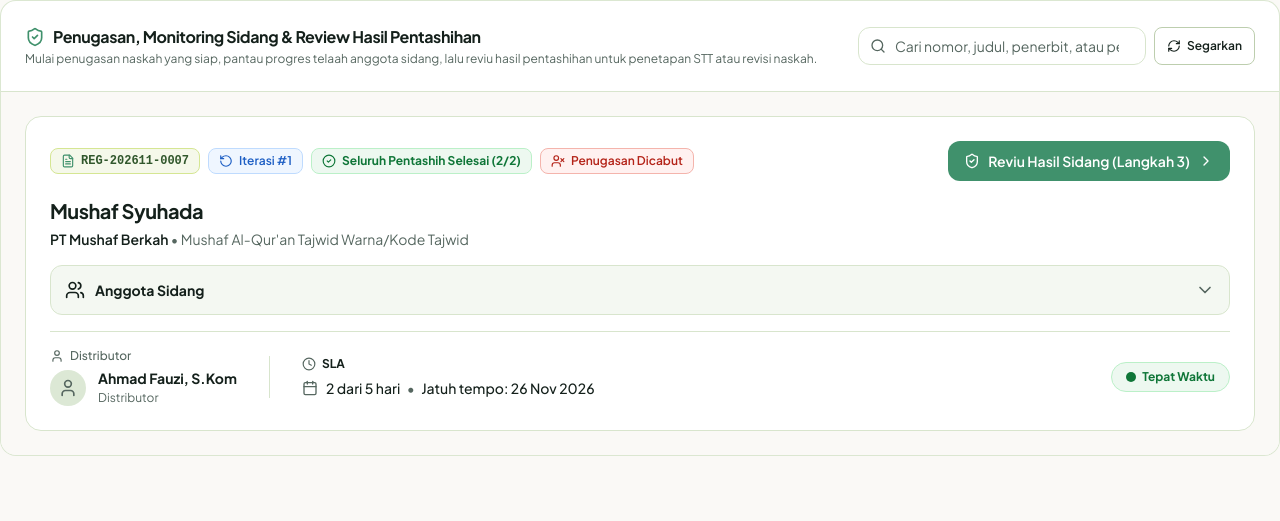
Test: ReviewProgressPanel Component › mengendalikan accordion Anggota Sidang (default tertutup, membuka saat diklik)
Expected: the text "H. Mustopa, M.Si" is not shown
Expected: the text "Alvita Eka Rahmah, S.Ag" is not shown
// Click accordion header to expand
Click the button "Anggota Sidang": x=150, y=290 [65, 280, 1215, 300]
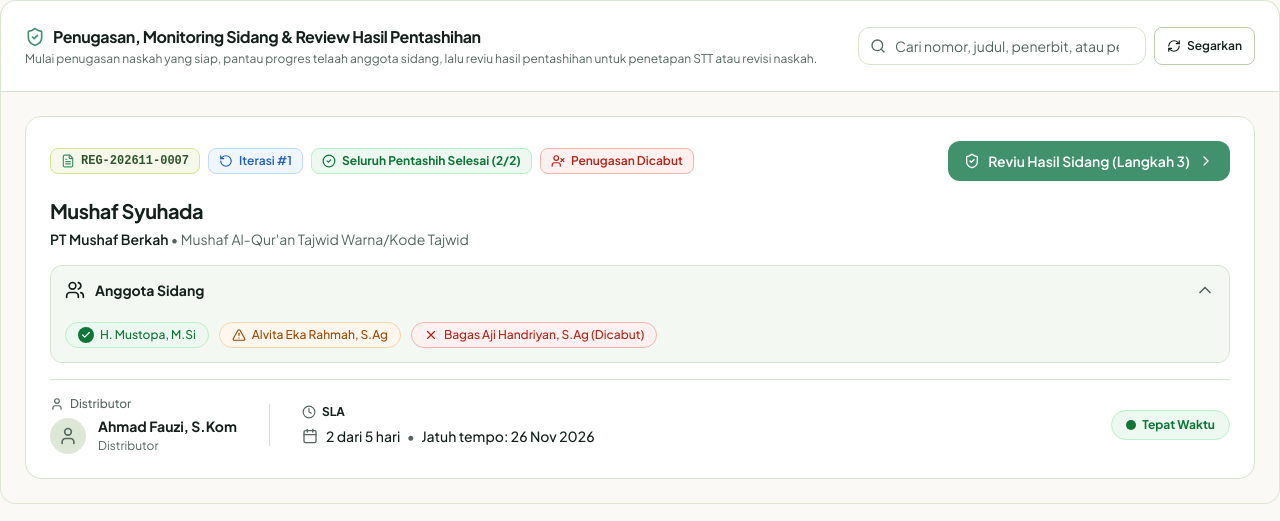
Result: the text "H. Mustopa, M.Si" is shown at [100, 326, 196, 342]
Result: the text "Alvita Eka Rahmah, S.Ag" is shown at [252, 326, 388, 342]
Result: the text "Bagas Aji Handriyan, S.Ag (Dicabut)" is shown at [444, 326, 644, 342]
// Click again to collapse
Click the button "Anggota Sidang": x=150, y=290 [65, 280, 1215, 300]
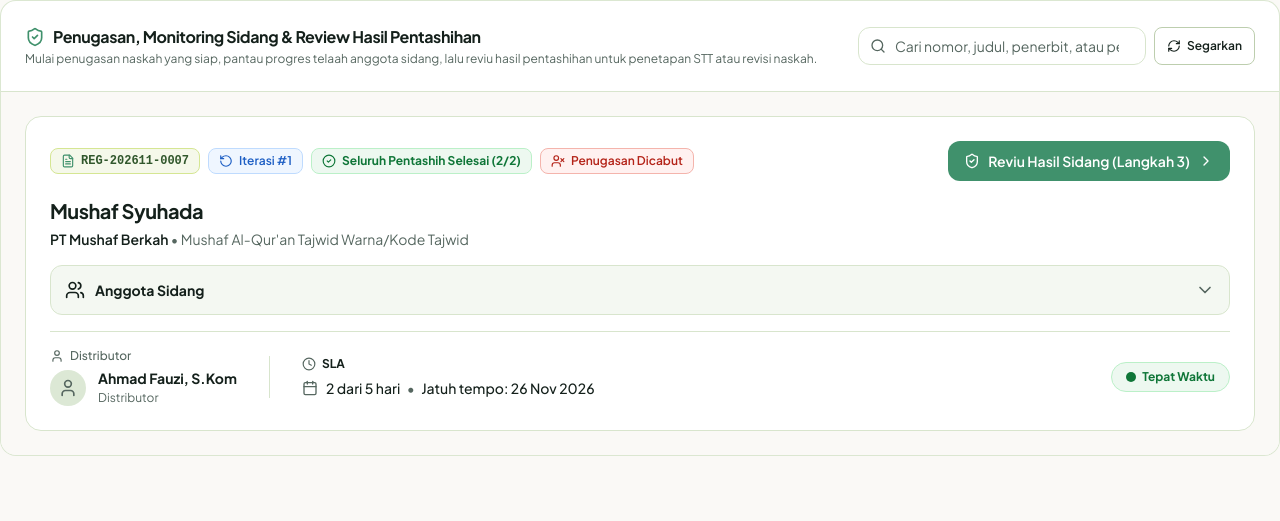
Result: the text "H. Mustopa, M.Si" is gone
